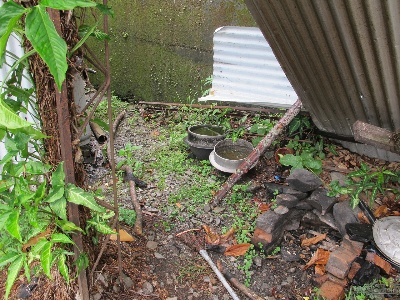bowl: (208, 137, 261, 180), (181, 123, 228, 161)
